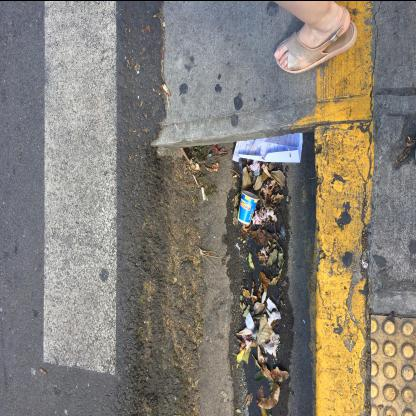kagit: (232, 132, 304, 162)
karton: (237, 189, 260, 225)
